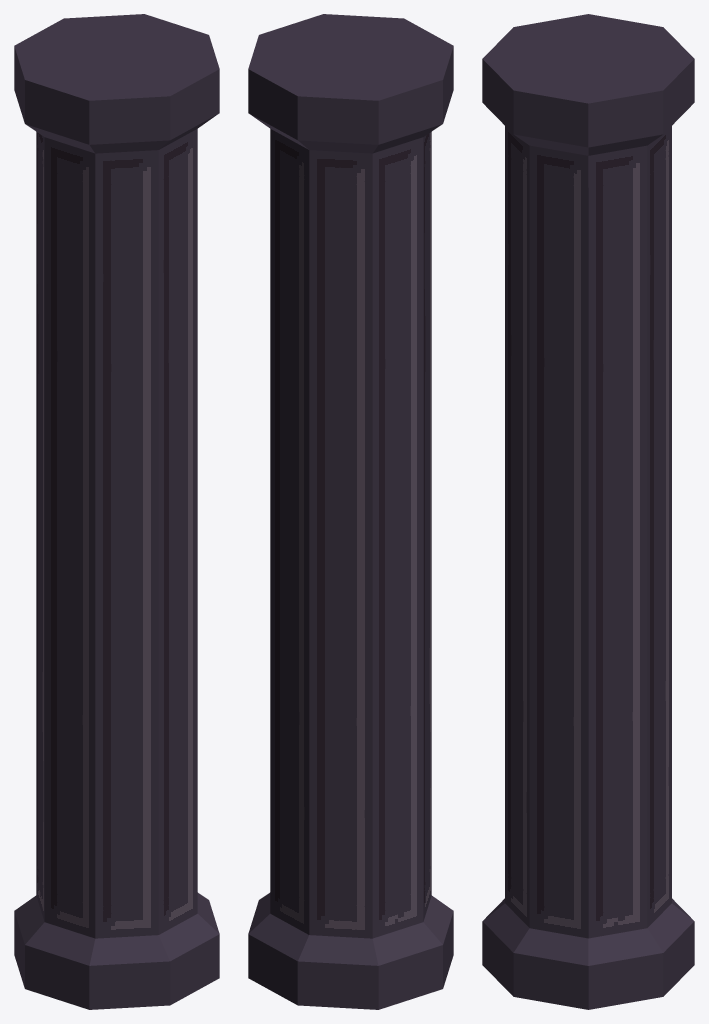
The model's file is pillar6.fbx.
3 views of the same model, side by side, from view 1: azimuth 30°, elevation 25°; view 2: azimuth 150°, elevation 25°; view 3: azimuth 270°, elevation 25° (orthographic).
Parts seen in each view (by area): view 1: Pillar 6; view 2: Pillar 6; view 3: Pillar 6.
Boxes of the visible parts, left/top/right/bottom form: Pillar 6: left=14, top=14, right=219, bottom=1009; Pillar 6: left=248, top=14, right=453, bottom=1009; Pillar 6: left=482, top=14, right=694, bottom=1009.
Bounding box in the file's own units: 127 × 600 × 127.
